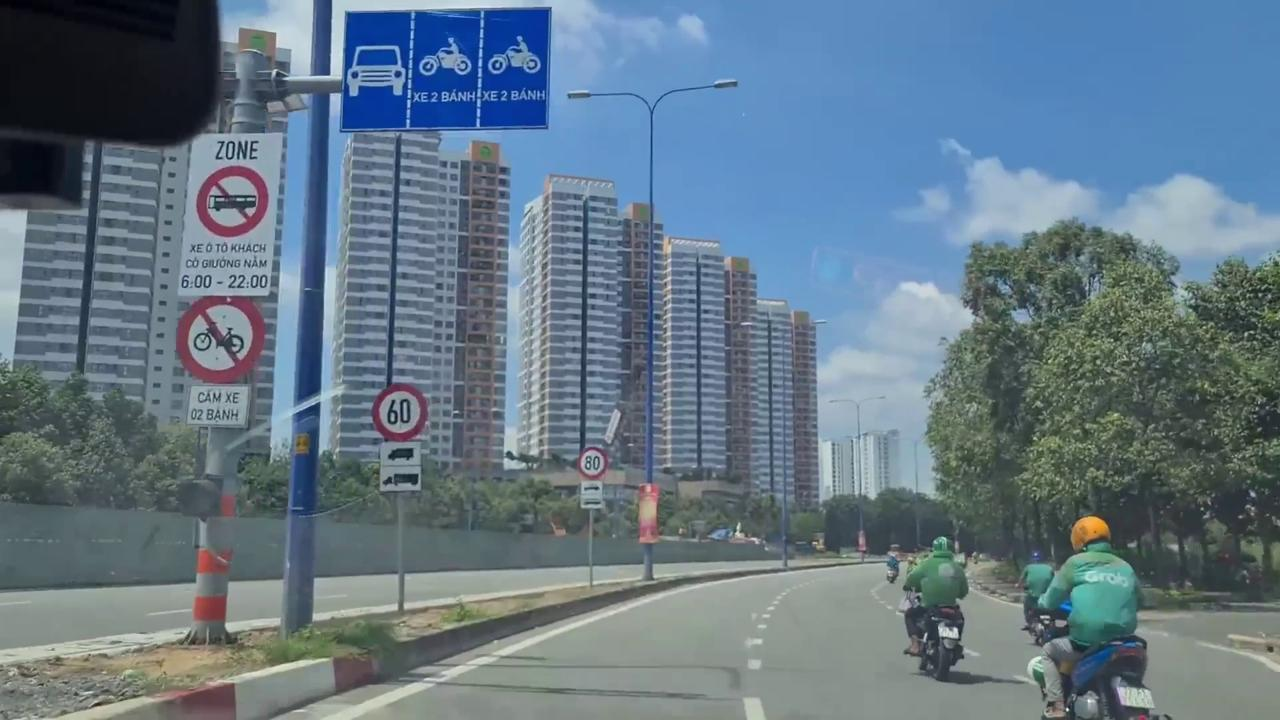Biển phụ: (184, 384, 250, 432), (378, 441, 422, 494), (579, 480, 603, 509)
Cấm cac phương tiện hoạt động trong khung giờ cố định: (175, 130, 282, 296)
Cấm xe máy: (175, 296, 268, 386)
GIơi hạn tốc độ 60Km/h: (370, 382, 429, 442)
Giới hạn tốc độ 80Km/h: (576, 446, 608, 480)
Làn đường cho từng xe: (337, 8, 549, 132)
